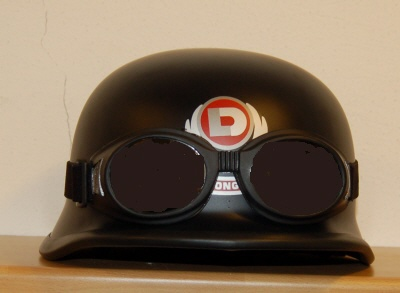helmet: (70, 52, 371, 267)
